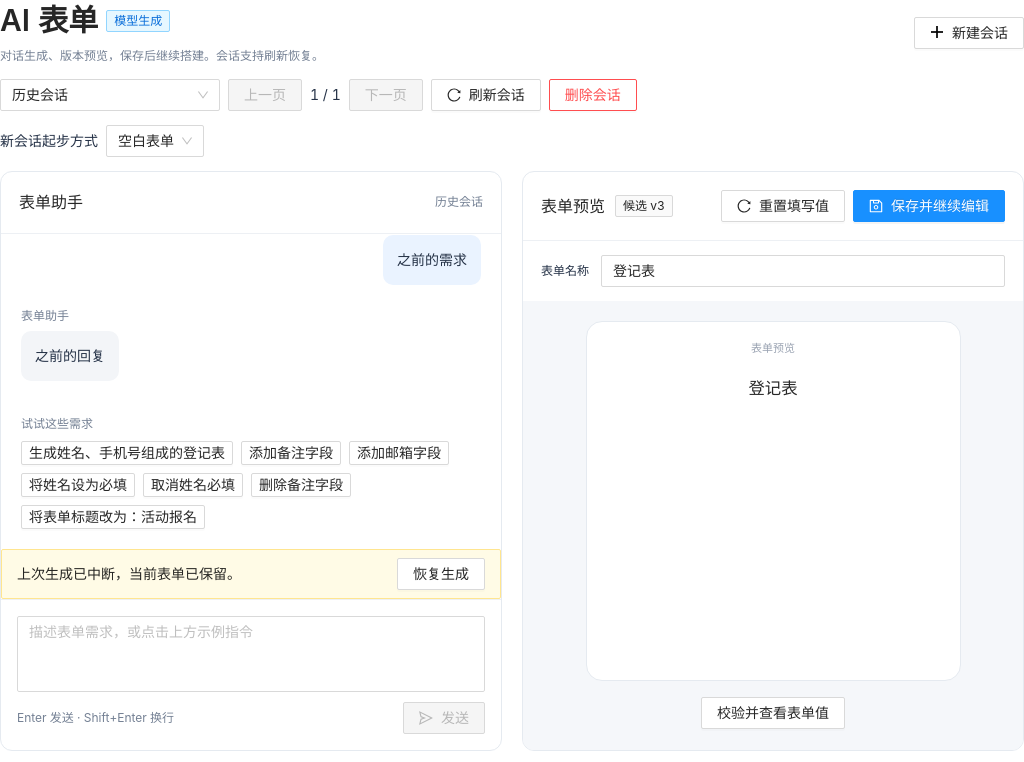
Test case: interrupted history exposes manual resume and active history blocks a second send
The width and height of the screenshot is (1024, 762).
(page scrolled)
Check: the button "恢复生成" is enabled, box [397,558,485,590]
Click the button "刷新会话": click(486, 95) [431,79,541,111]
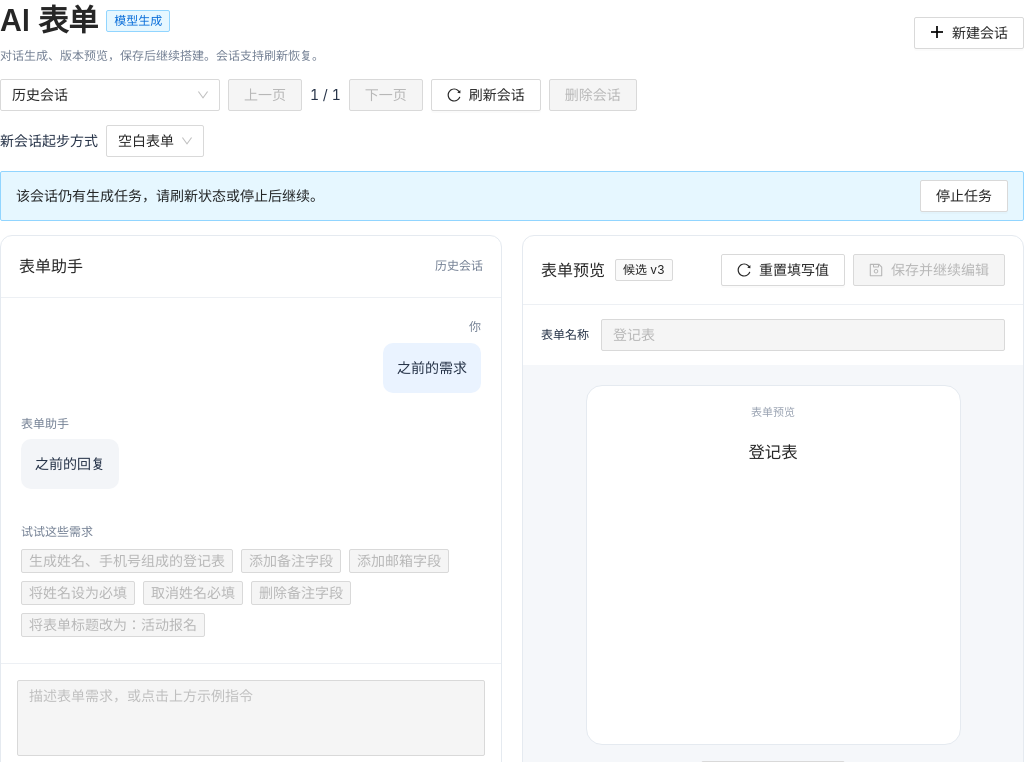
Check: the button "停止任务" is enabled, box [920,180,1008,212]
Check: the text box with placeholder "描述表单需求，或点击上方示例指令" is disabled, box [17,680,485,756]
